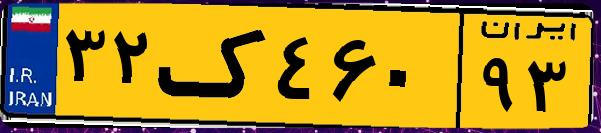0: (385, 28, 445, 110)
2: (110, 28, 158, 98)
3: (57, 26, 110, 100), (525, 38, 570, 115)
4: (270, 28, 330, 110)
6: (330, 28, 385, 110)
9: (475, 38, 525, 113)
ک: (158, 12, 270, 120)
